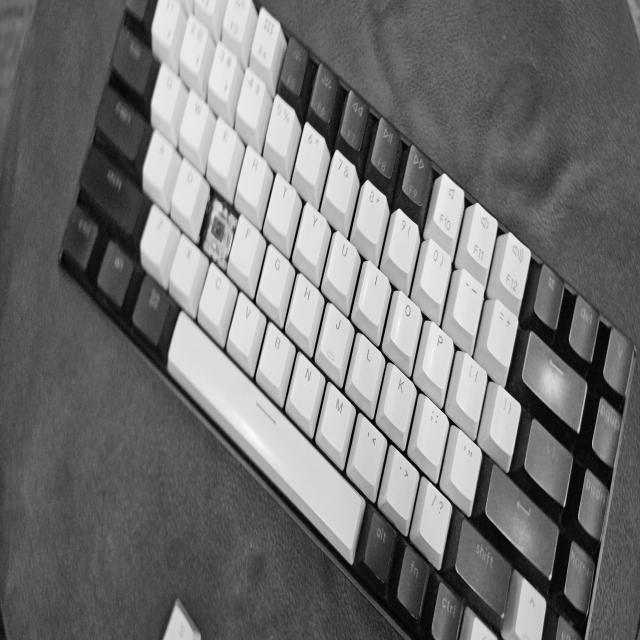C: (209, 202, 227, 258), (209, 213, 227, 256)
